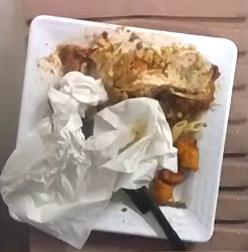pasta: (172, 120, 206, 142)
sweet_potato: (150, 133, 199, 205)
unknown: (95, 44, 220, 126)
